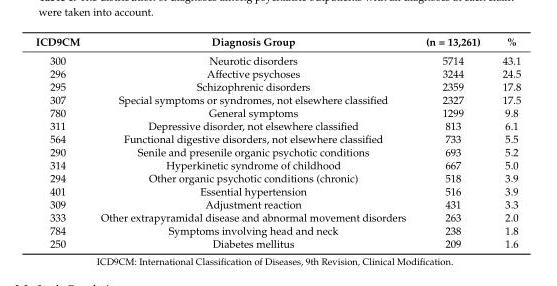table: (35, 34, 520, 249)
table column: (89, 34, 415, 249), (415, 34, 490, 249), (35, 34, 89, 249), (490, 34, 520, 249)
table column header: (35, 34, 520, 50)
table row: (35, 34, 520, 50), (35, 50, 520, 66), (35, 118, 520, 132), (35, 66, 520, 79), (35, 79, 520, 92), (35, 92, 520, 105), (35, 105, 520, 118), (35, 132, 520, 145), (35, 145, 520, 158), (35, 158, 520, 171), (35, 171, 520, 184), (35, 184, 520, 197), (35, 197, 520, 210), (35, 210, 520, 223), (35, 223, 520, 236), (35, 236, 520, 249)
